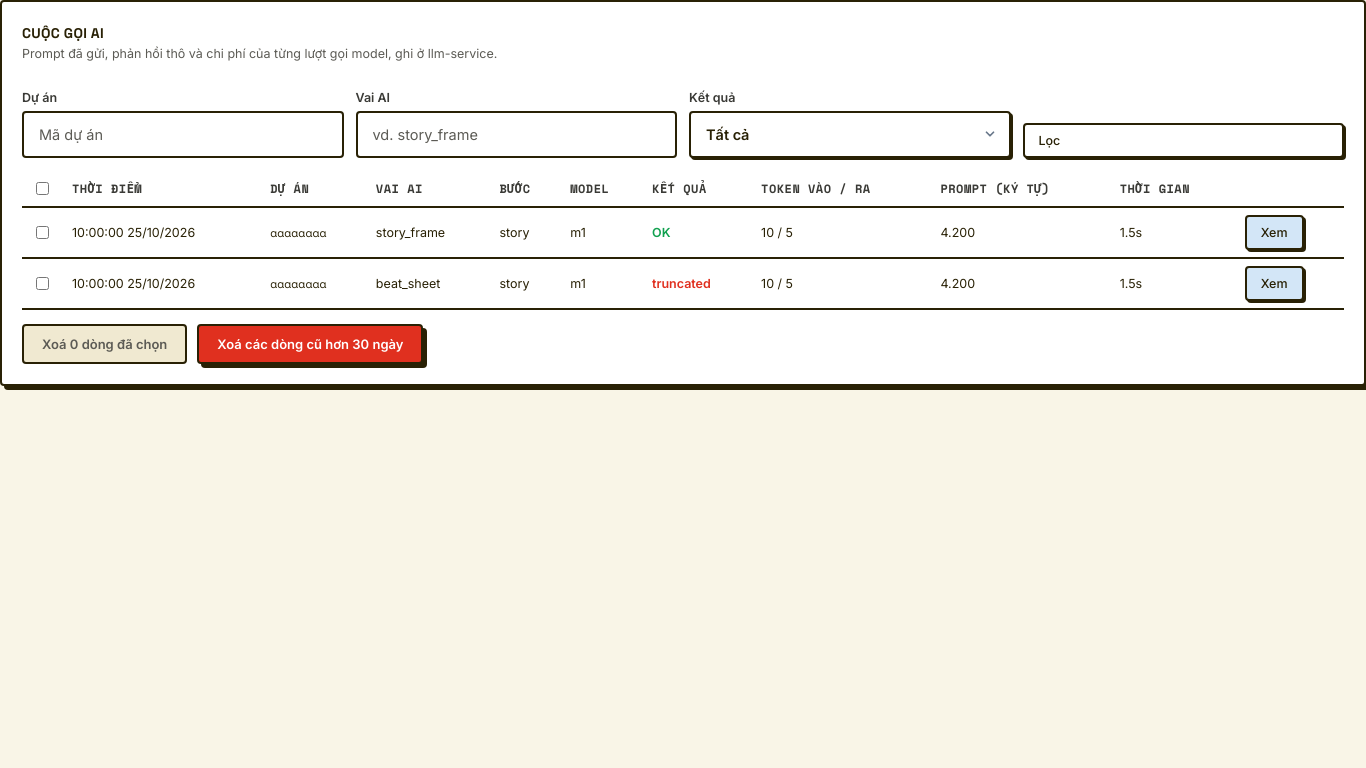
Test: LlmCallsPanel › still shows the response when the prompt cannot be read, and says why
Step 1. Click the button with test id "llm-view-c1" → coordinates (1274, 232), box [1245,214,1304,250]
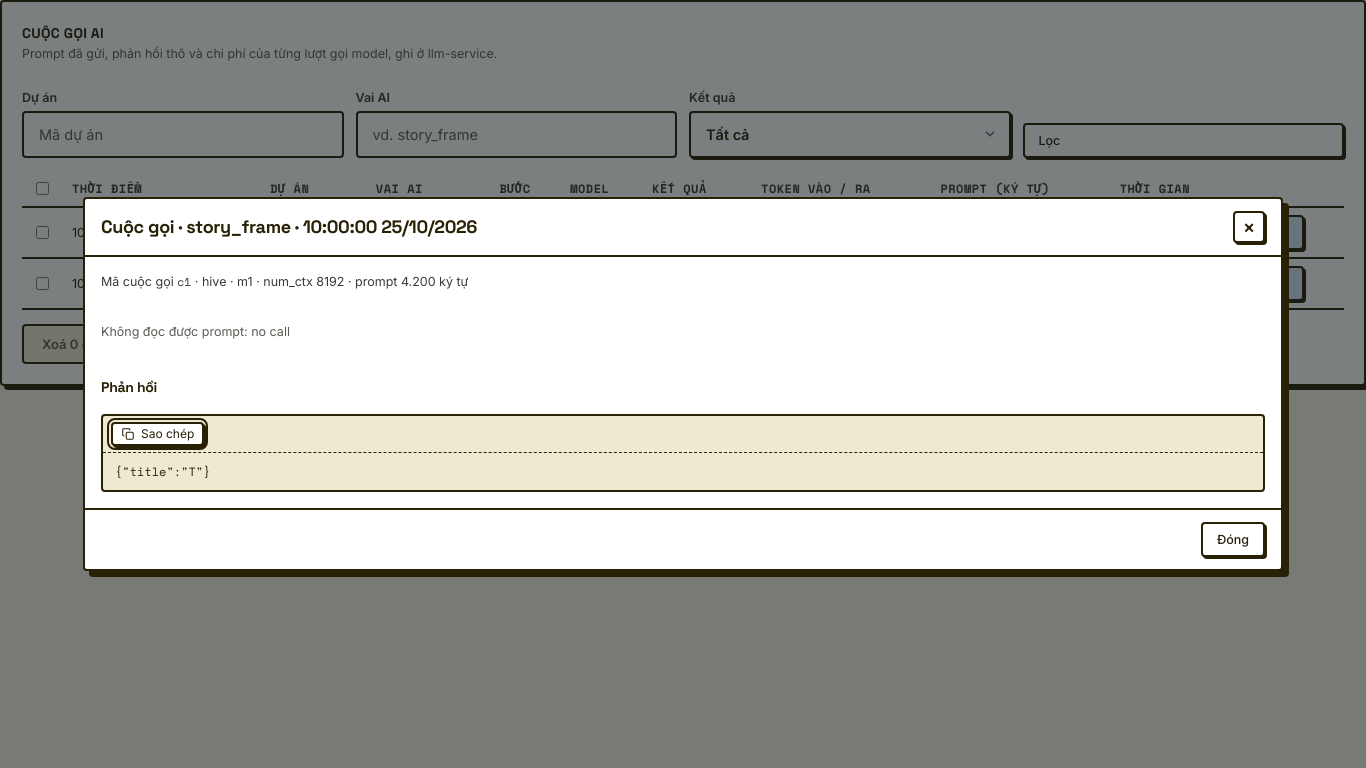
Now the message "Không đọc được prompt: no call" is shown, box [101,324,290,339]
Now the text with test id "llm-response-text" shows "t", box [115,463,210,480]
